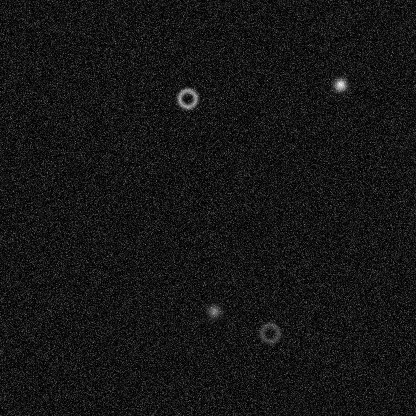Ring: (257, 320, 281, 344), (175, 86, 199, 110)
Spot: (205, 302, 221, 318), (332, 76, 348, 92)
